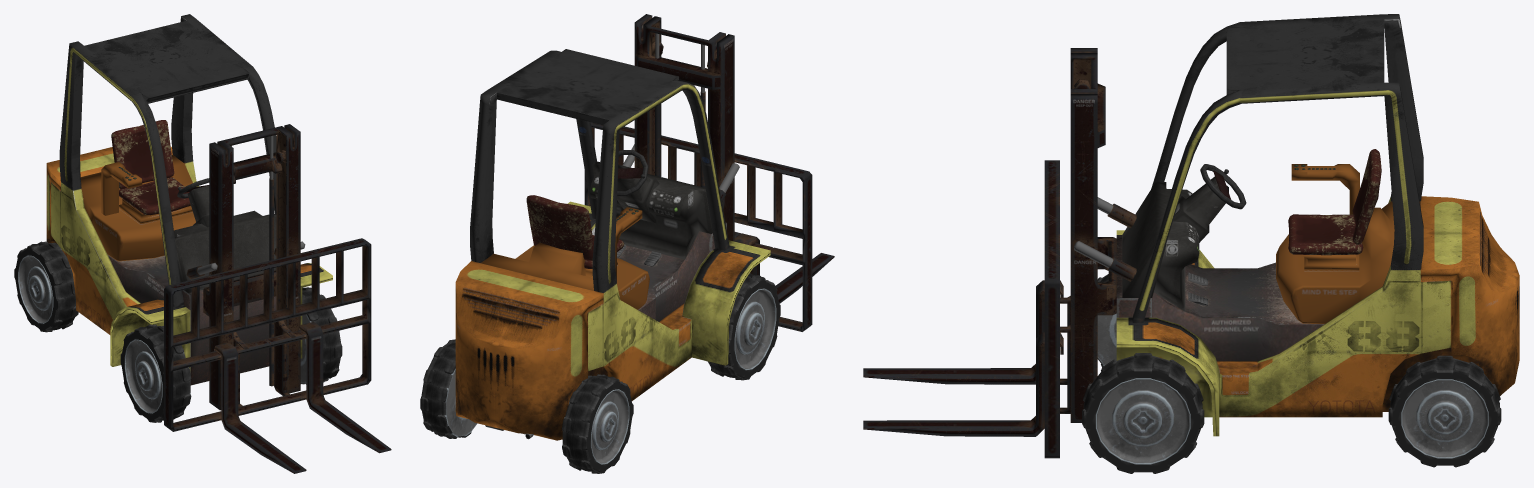
File: forklift.glb
3 renders of one model, left to right at view 1: azimuth 30°, elevation 25°; view 2: azimuth 150°, elevation 25°; view 3: azimuth 270°, elevation 25°, orthographic. The views are drawn at different scales.
Parts seen in each view (by area): view 1: g (×20); view 2: g (×16); view 3: g (×19).
Part boxes in pixels (x1,y1,x2,y2): g (×20): (14,14,391,473); g (×16): (420,14,834,473); g (×19): (863,14,1519,473).
Size of the model in its own units: 0.8894 by 1.25 by 2.
Materials: 1 (1 with a texture image).
